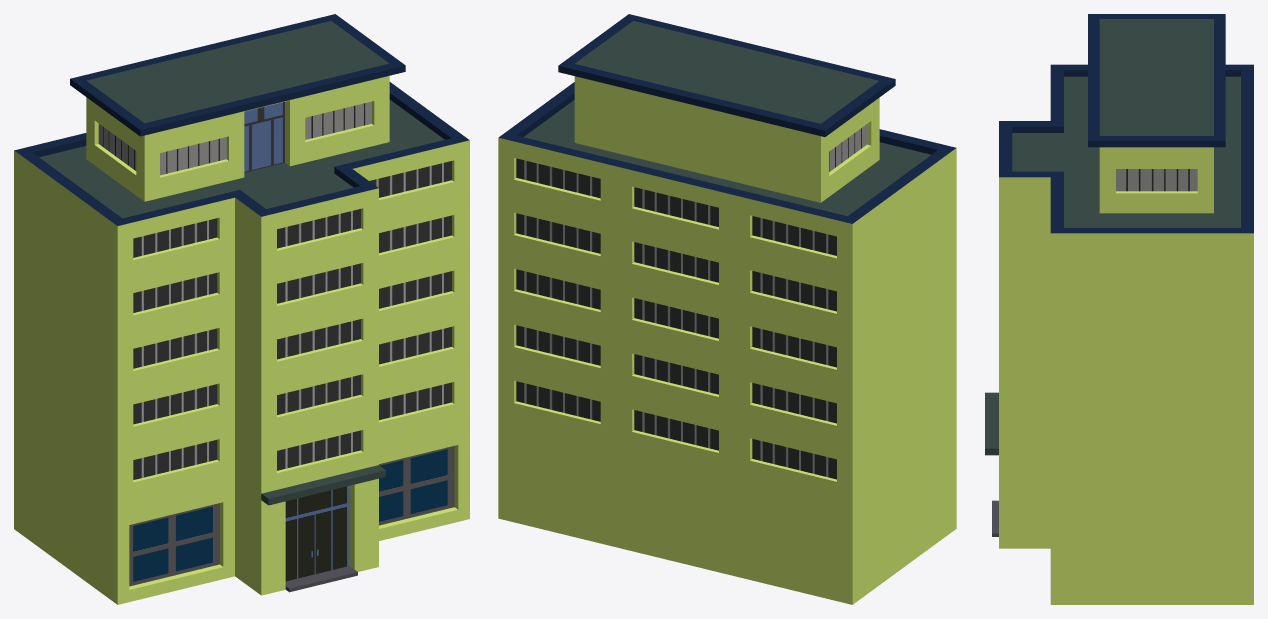
The model's file is building22d.FBX.
The picture shows the model from 3 angles, left to right: view 1: azimuth 30°, elevation 25°; view 2: azimuth 150°, elevation 25°; view 3: azimuth 270°, elevation 25°; orthographic projection. The views are drawn at different scales.
Visible parts, largest first — view 1: building22d; view 2: building22d; view 3: building22d.
Boxes of the visible parts, left/top/right/bottom form: building22d: left=14, top=14, right=469, bottom=604; building22d: left=498, top=14, right=956, bottom=604; building22d: left=985, top=14, right=1253, bottom=604.
Size of the model in its own units: 30.39 by 37.18 by 20.49.
